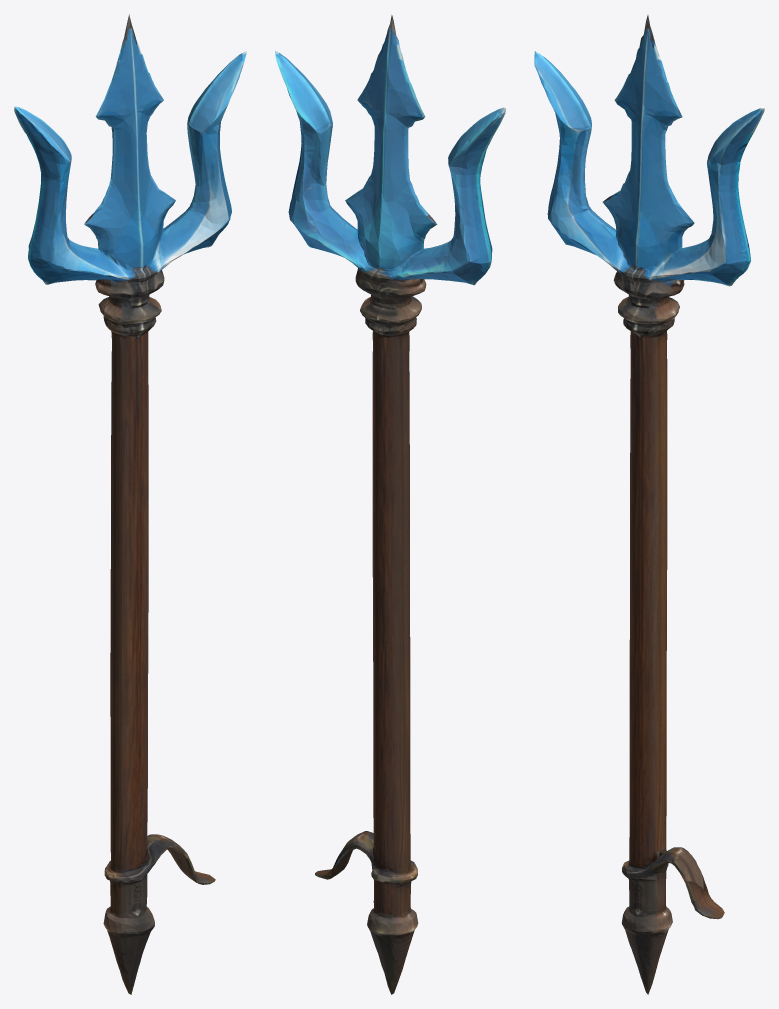
Rendered from Trident_of_the_Deep_0410041758_texture.fbx.
3 renders of one model, left to right at view 1: azimuth 30°, elevation 25°; view 2: azimuth 150°, elevation 25°; view 3: azimuth 330°, elevation 25°, orthographic.
Parts seen in each view (by area): view 1: temp; view 2: temp; view 3: temp.
Part boxes in pixels (x1,y1,x2,y2): temp: [14, 14, 246, 994]; temp: [275, 15, 505, 994]; temp: [534, 15, 764, 994].
Bounding box in the file's own units: 49.34 × 200 × 11.69.
1 material, 1 textured.
